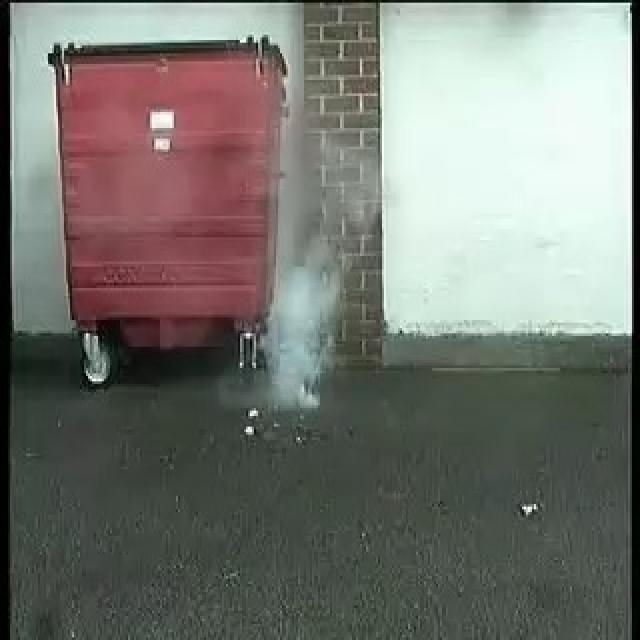smoke: (264, 227, 338, 410)
